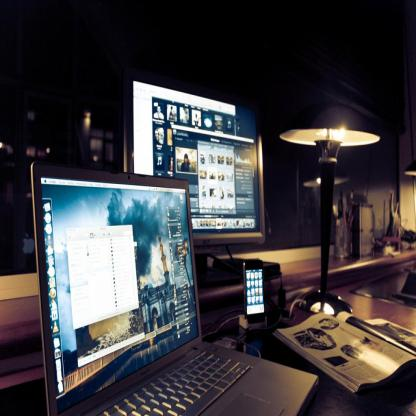board: (31, 167, 318, 413)
